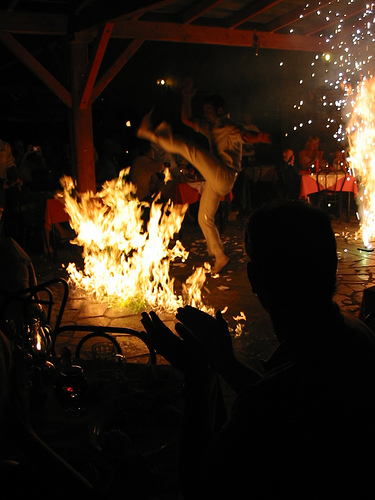fire: (32, 150, 206, 308), (342, 69, 375, 248)
